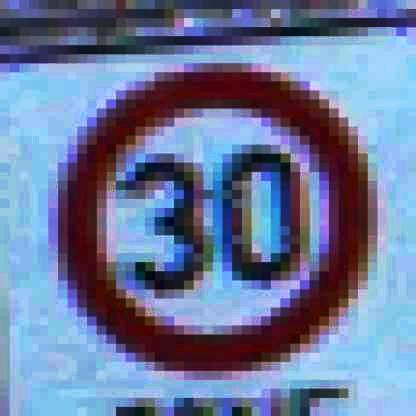Speed Limit -30-: (50, 61, 377, 383)
